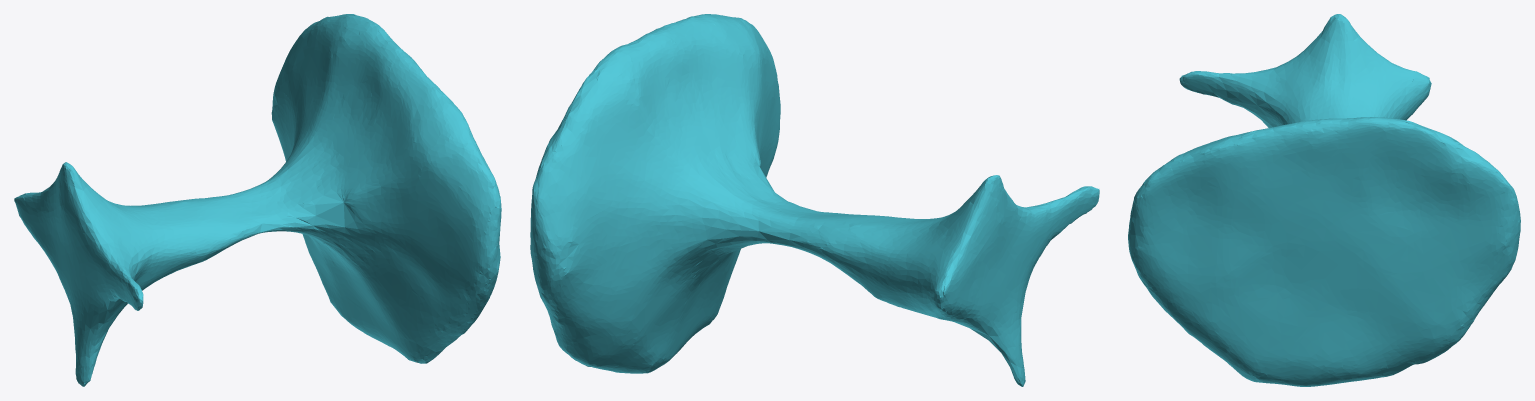
The picture shows the model from 3 angles, left to right: view 1: azimuth 30°, elevation 25°; view 2: azimuth 150°, elevation 25°; view 3: azimuth 270°, elevation 25°; orthographic projection. The views are drawn at different scales.
Visible parts, largest first — view 1: Renderer Node; view 2: Renderer Node; view 3: Renderer Node.
Boxes of the visible parts, x1,y1,x2,y2 form: Renderer Node: (14,14,501,386); Renderer Node: (530,14,1099,386); Renderer Node: (1128,14,1520,386).
Bounding box in the file's own units: 0.5682 × 0.4561 × 0.5967.
1 material, 1 textured.
